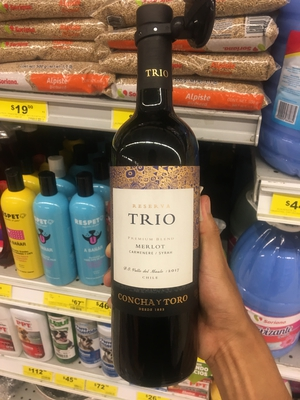trio merlot: (98, 20, 216, 399)
